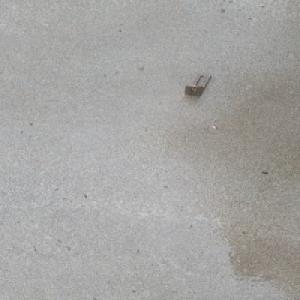MetalPart: (183, 72, 213, 96)
